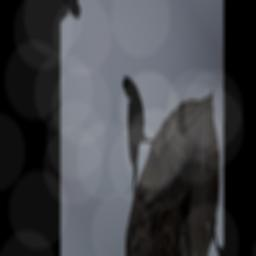Crow: (102, 69, 162, 199)
